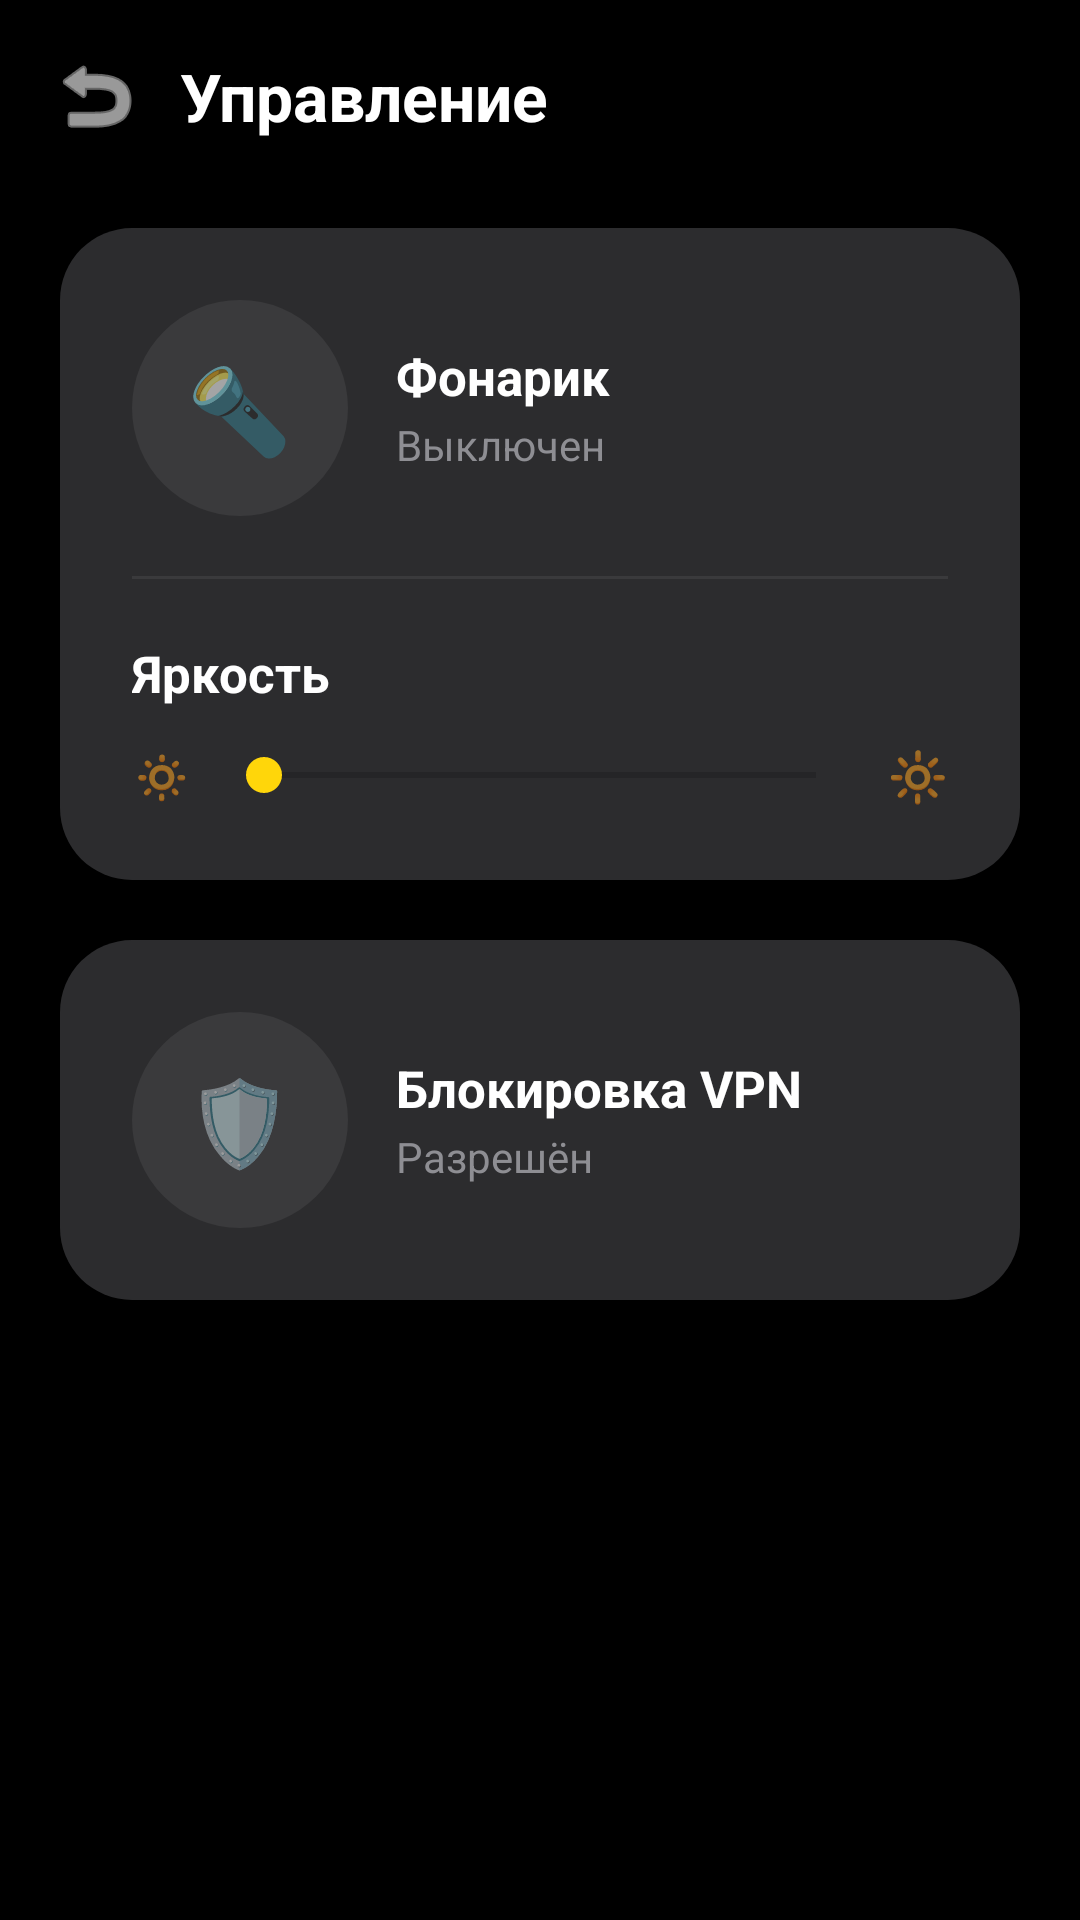

Point at icon controls on the screen. Image size 1080 x 1920, points as (x,y).
Назад: (97,96)
